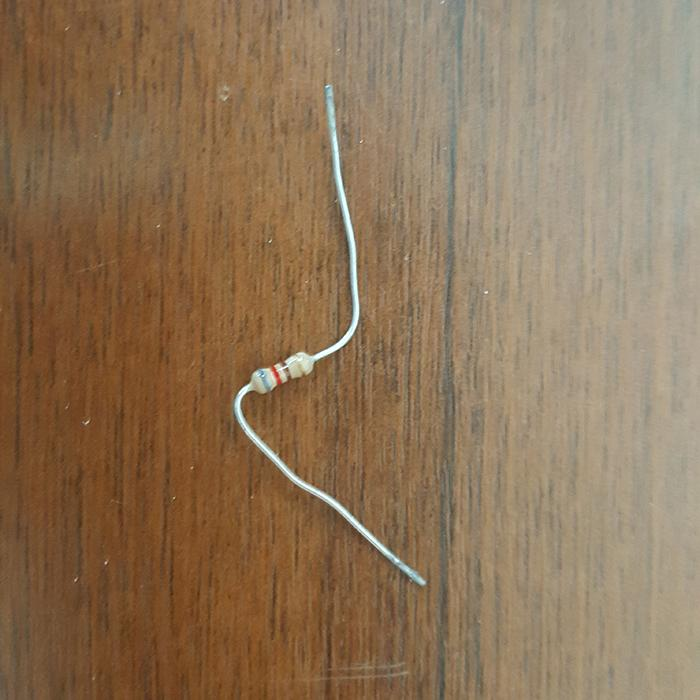resistor: (248, 350, 315, 394)
